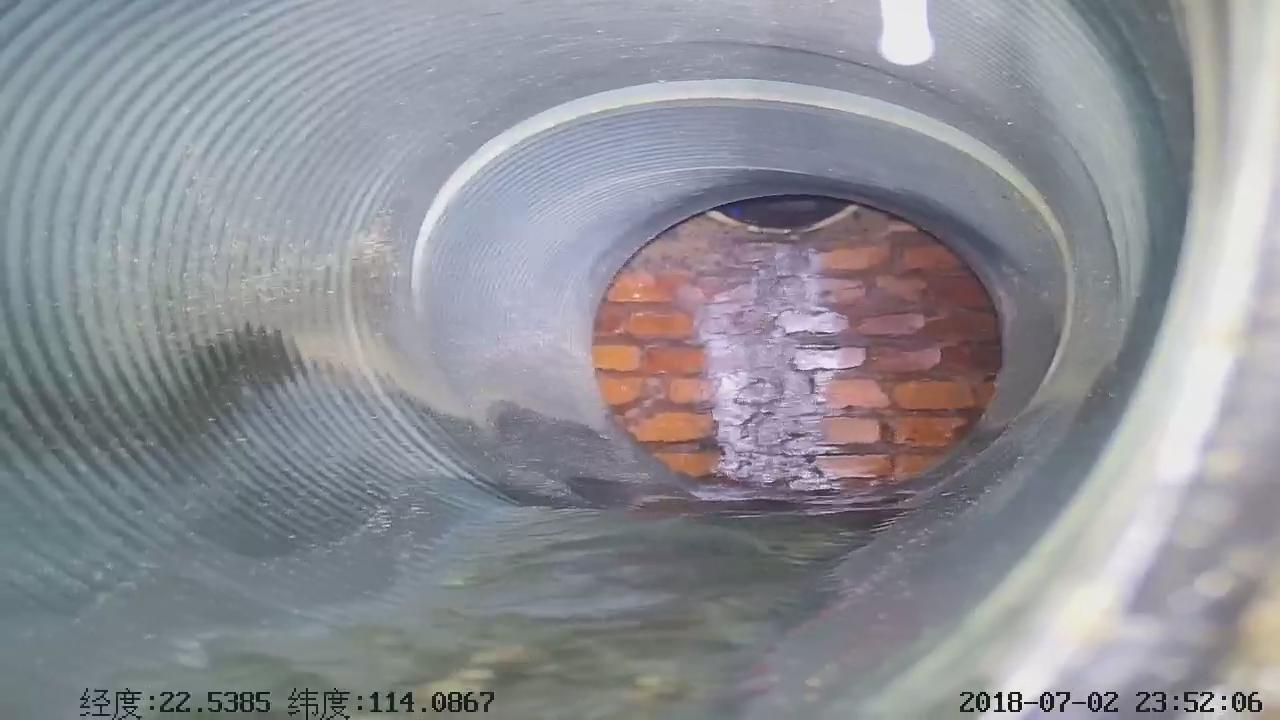CKTJ: (409, 79, 1075, 410)
CQBG: (592, 198, 1000, 495)
